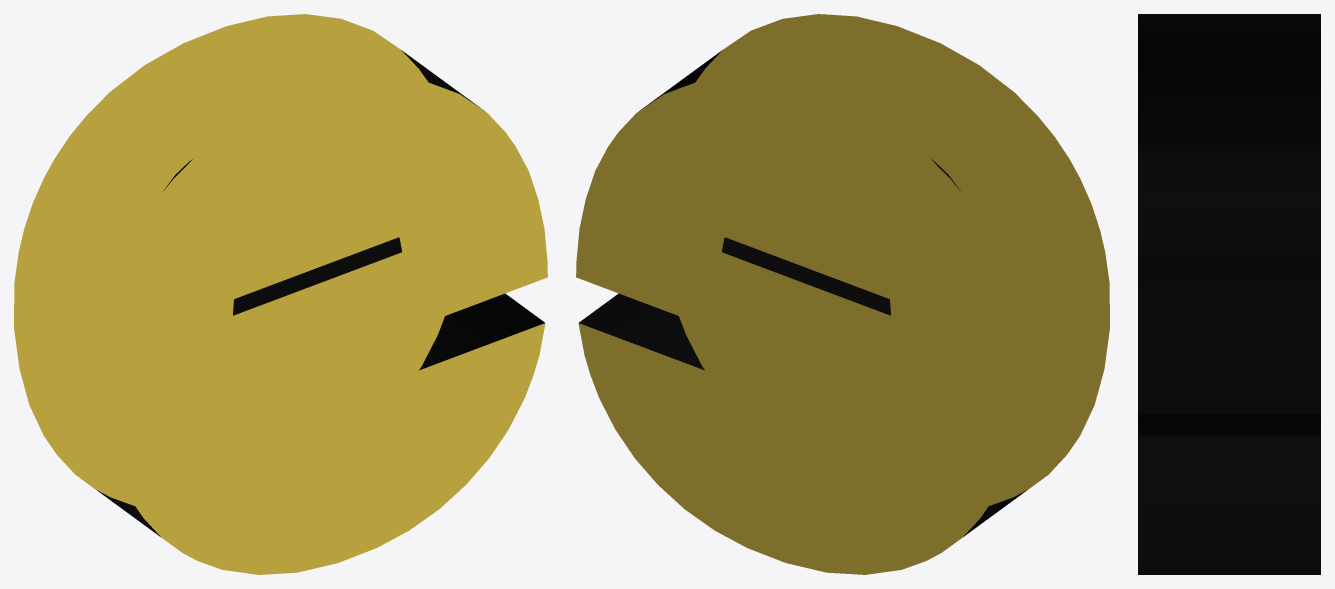
3 views of the same model, side by side, from view 1: azimuth 30°, elevation 25°; view 2: azimuth 150°, elevation 25°; view 3: azimuth 270°, elevation 25° (orthographic). The views are drawn at different scales.
Visible parts, largest first — view 1: Text.008; view 2: Text.008; view 3: Text.008.
Boxes of the visible parts, left/top/right/bottom form: Text.008: left=14, top=14, right=547, bottom=574; Text.008: left=576, top=14, right=1109, bottom=574; Text.008: left=1138, top=14, right=1320, bottom=574.
Size of the model in its own units: 2.14 by 2.2 by 0.7207.
